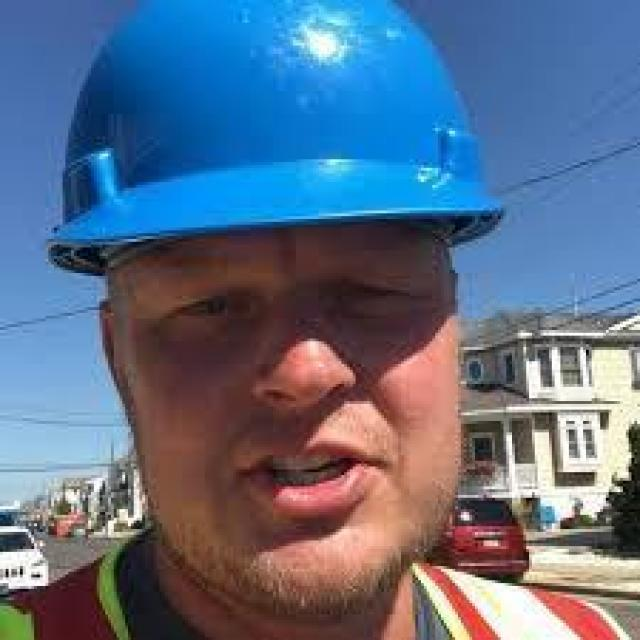hat: (43, 0, 507, 276)
